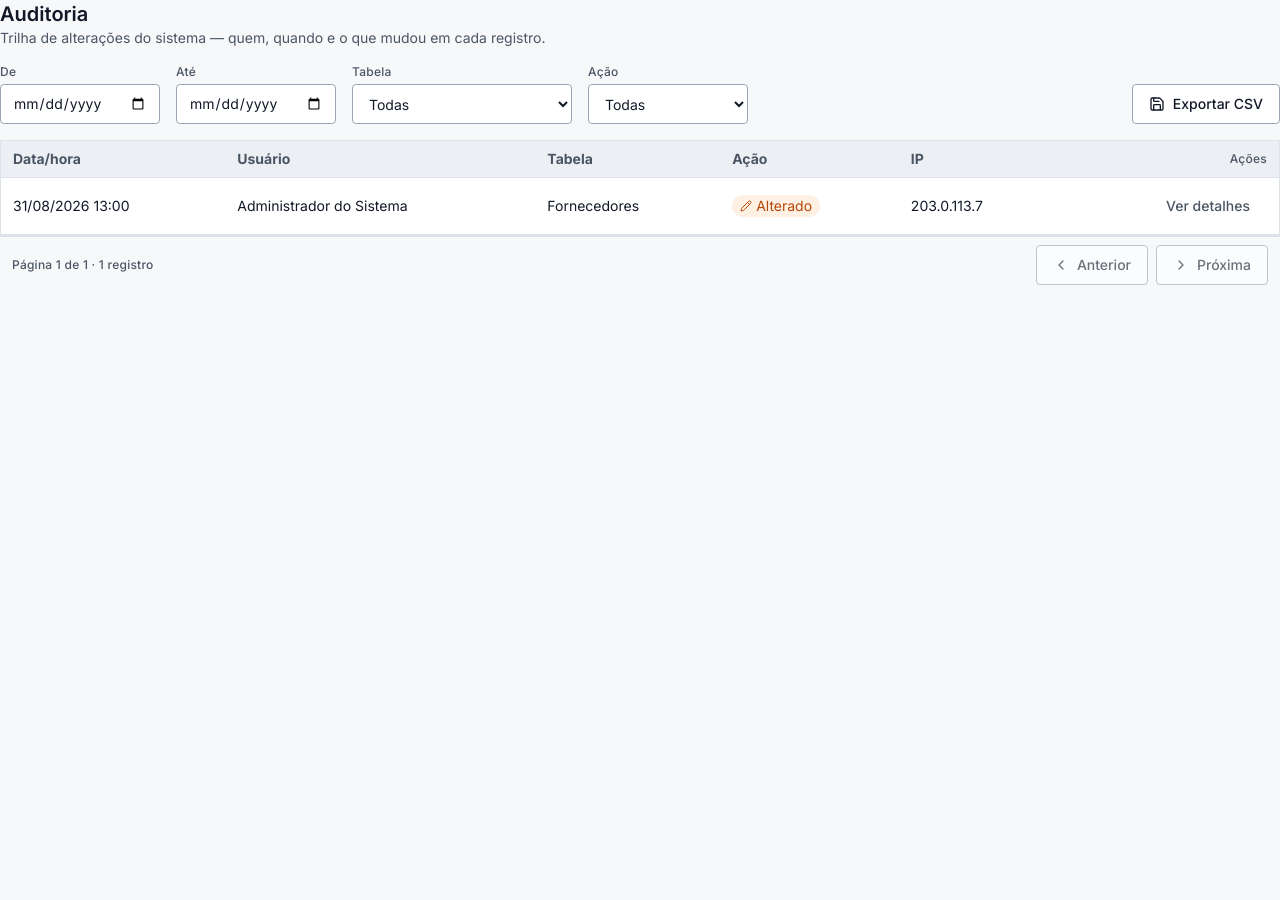
Test case: Auditoria › Ver detalhes de um UPDATE mostra o campo alterado com antes e depois
Step 1. Click the button "Ver detalhes" → (1208, 206), box [1149,186,1267,226]
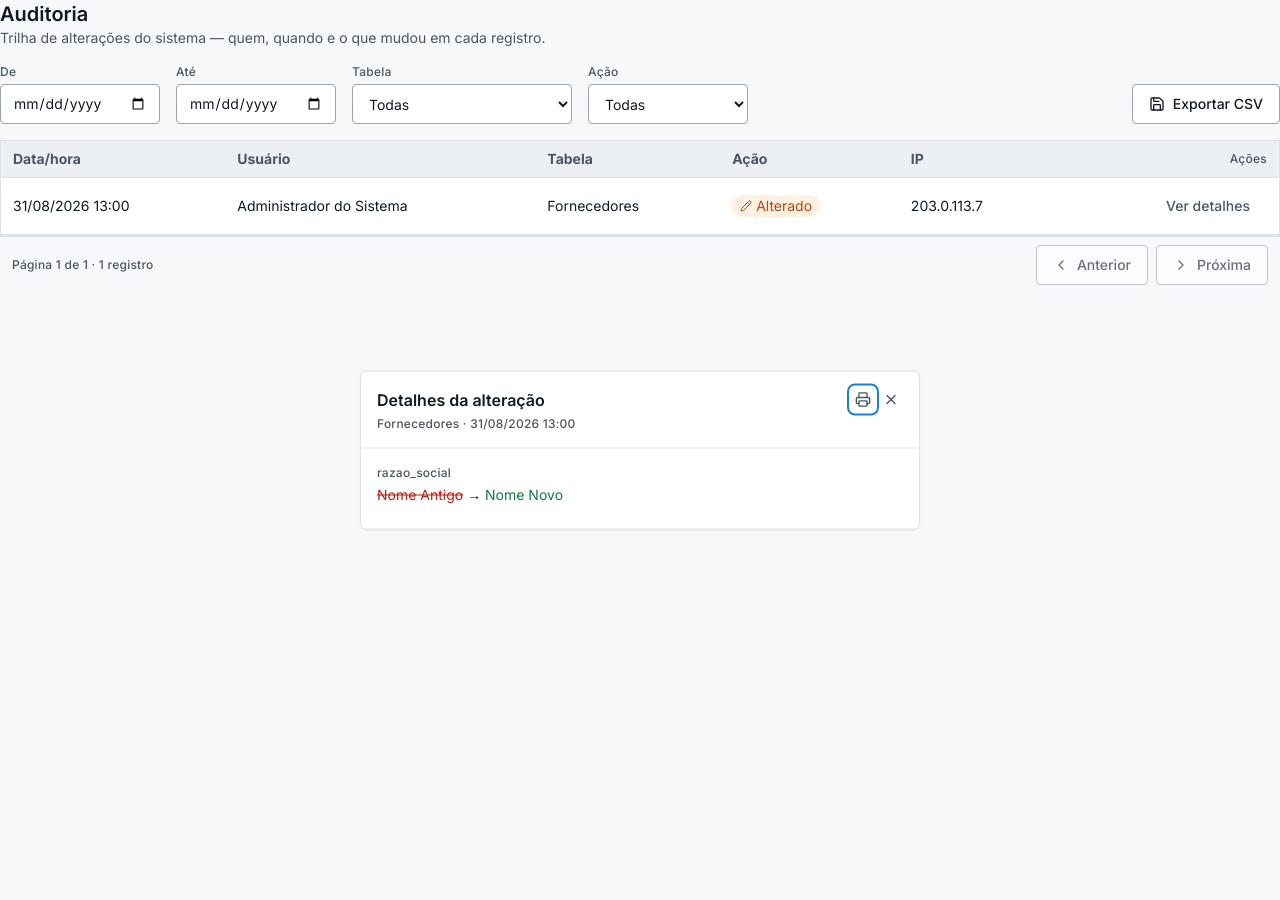
Result: the text "razao_social" is shown at [377,464,451,480]
Result: the text "Nome Antigo" is shown at [377,486,463,502]
Result: the text "Nome Novo" is shown at [485,486,563,502]
